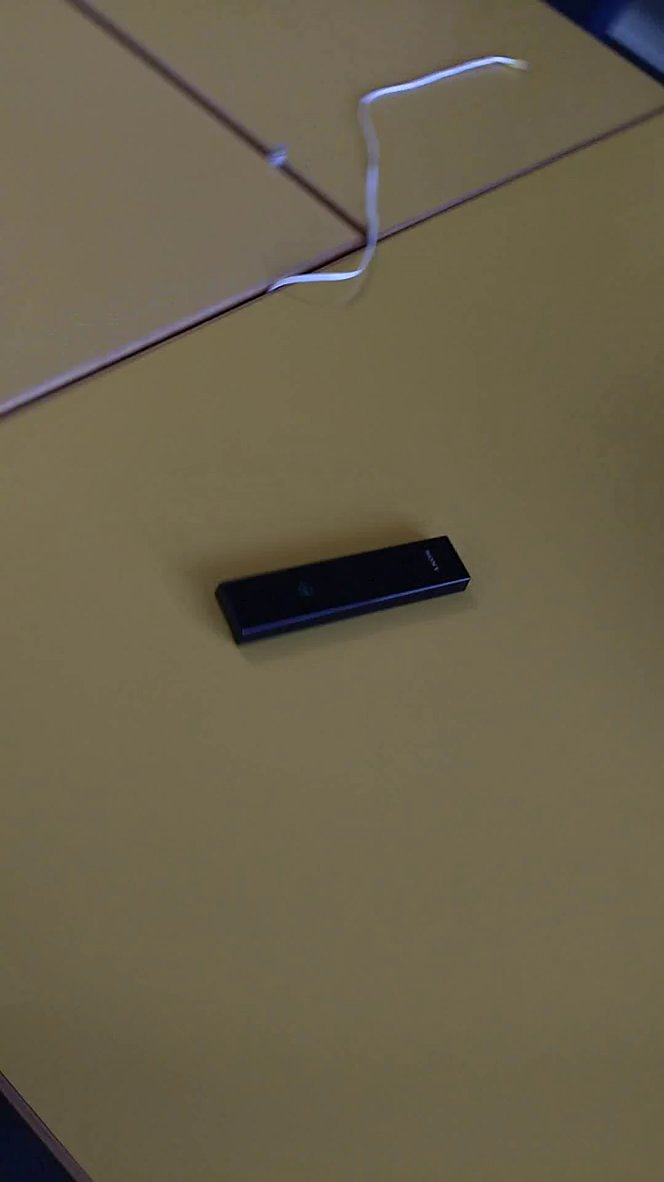remote: (202, 524, 482, 651)
